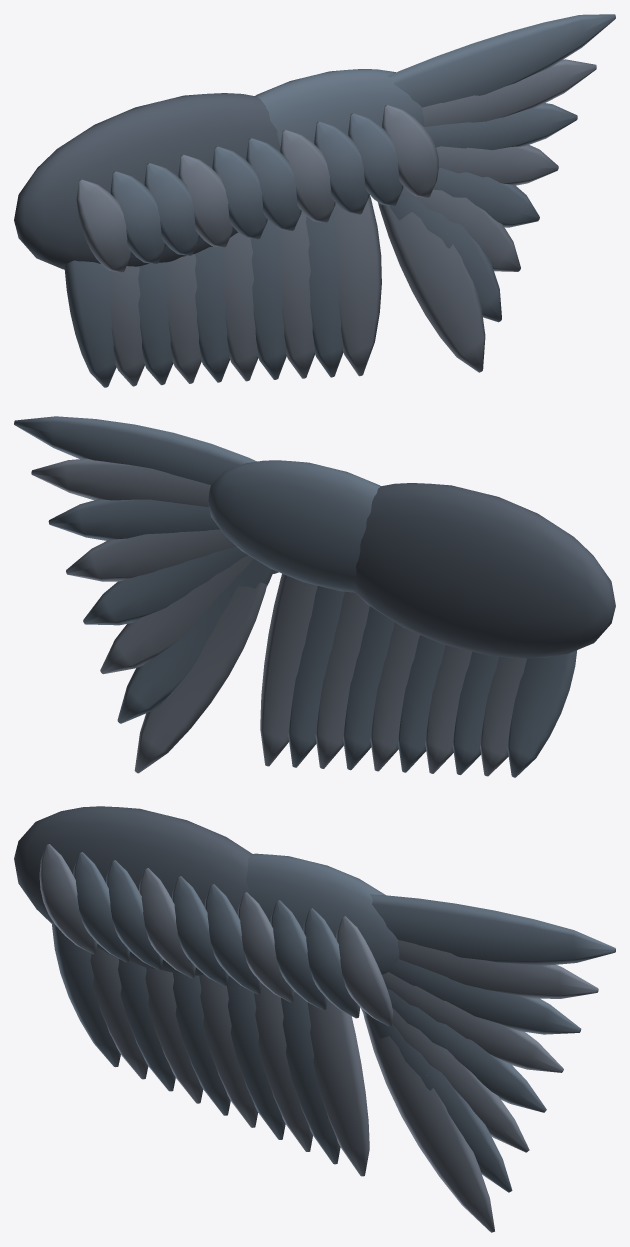
File: right-wing.glb
3 views of the same model, one above another, from view 1: azimuth 30°, elevation 25°; view 2: azimuth 150°, elevation 25°; view 3: azimuth 330°, elevation 25° (orthographic). The views are drawn at different scales.
Visible parts, largest first — view 1: right-wing-1, right-wing-2, right-wing-0; view 2: right-wing-1, right-wing-2, right-wing-0; view 3: right-wing-1, right-wing-2, right-wing-0.
Boxes of the visible parts, <box> form: right-wing-1: <box>64,14,615,387</box>; right-wing-2: <box>76,59,596,386</box>; right-wing-0: <box>14,93,280,269</box>; right-wing-1: <box>14,416,577,777</box>; right-wing-2: <box>31,458,526,776</box>; right-wing-0: <box>354,483,615,658</box>; right-wing-1: <box>52,852,615,1192</box>; right-wing-2: <box>39,844,598,1232</box>; right-wing-0: <box>14,806,252,975</box>.
Size of the model in its own units: 2.16 by 1.22 by 0.2505.
